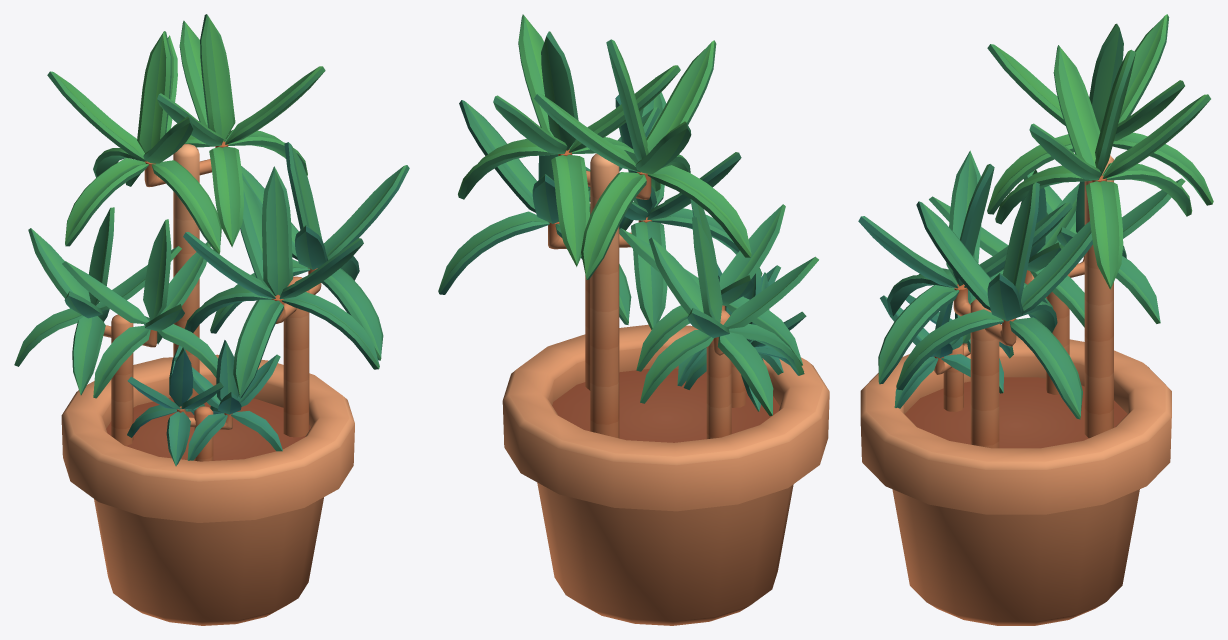
File: yucca_plant_large_potted.fbx
3 renders of one model, left to right at view 1: azimuth 30°, elevation 25°; view 2: azimuth 150°, elevation 25°; view 3: azimuth 270°, elevation 25°, orthographic. The views are drawn at different scales.
Parts seen in each view (by area): view 1: yucca_plant_large_potted; view 2: yucca_plant_large_potted; view 3: yucca_plant_large_potted.
Boxes of the visible parts, x1=… form: yucca_plant_large_potted: x1=14, y1=14, x2=409, y2=625; yucca_plant_large_potted: x1=438, y1=14, x2=829, y2=625; yucca_plant_large_potted: x1=858, y1=14, x2=1213, y2=625.
Bounding box in the file's own units: 203 × 300 × 171.
1 material, 1 textured.
